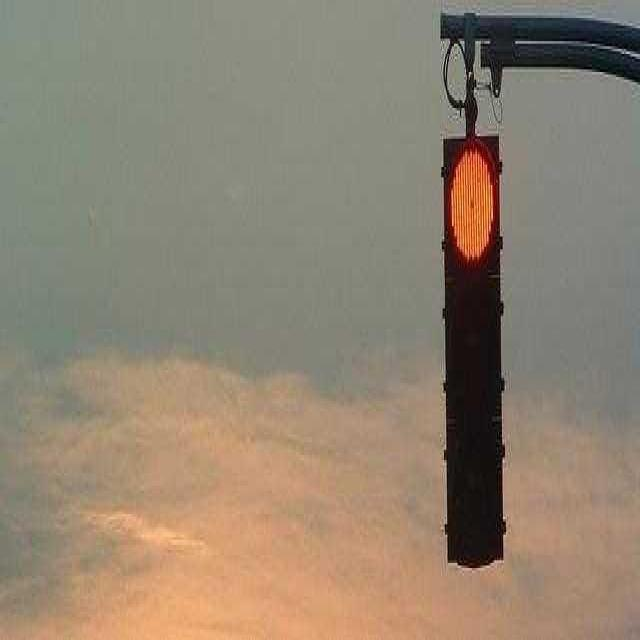Traffic Light -Red-: (442, 130, 508, 570)
